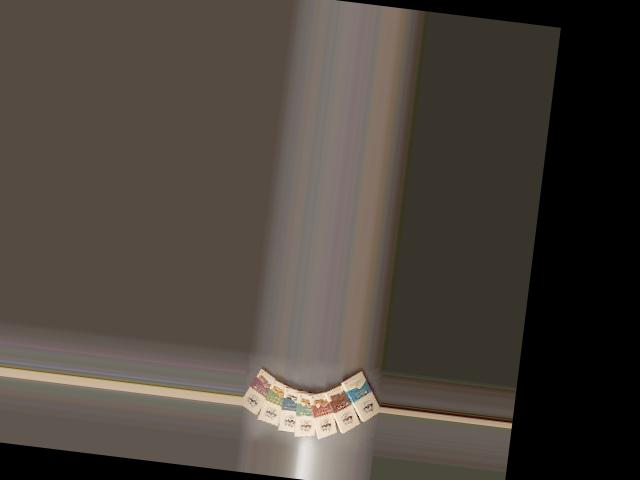chocolate: (336, 365, 383, 425)
